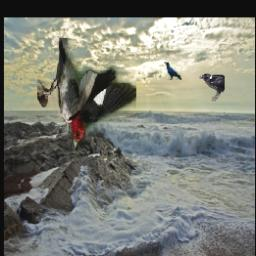Crow: (199, 73, 225, 101), (164, 61, 181, 80)
Woodpecker: (38, 38, 137, 151)
